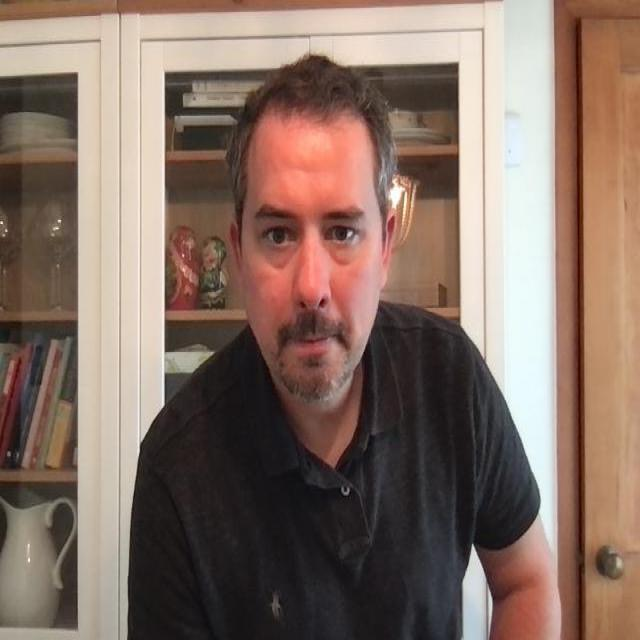face: (227, 56, 401, 403)
